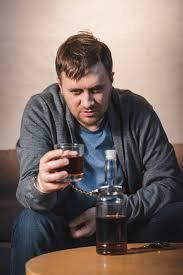Drunk: (63, 67, 109, 124)
